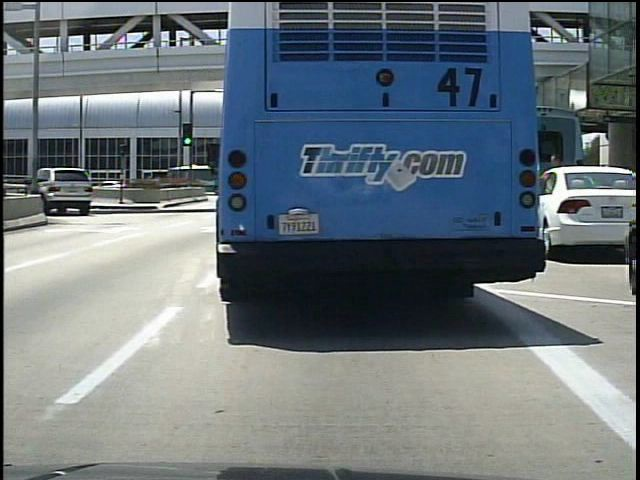person: (542, 149, 569, 247)
